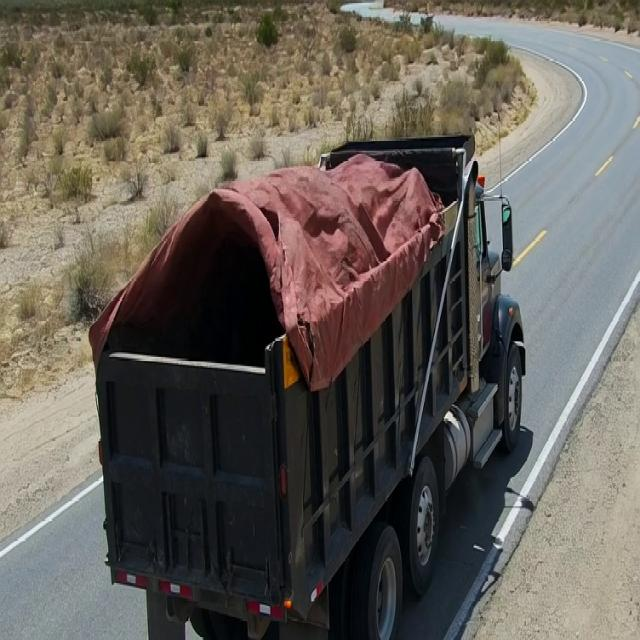trailer: (94, 133, 493, 380)
truck: (56, 128, 528, 630)
